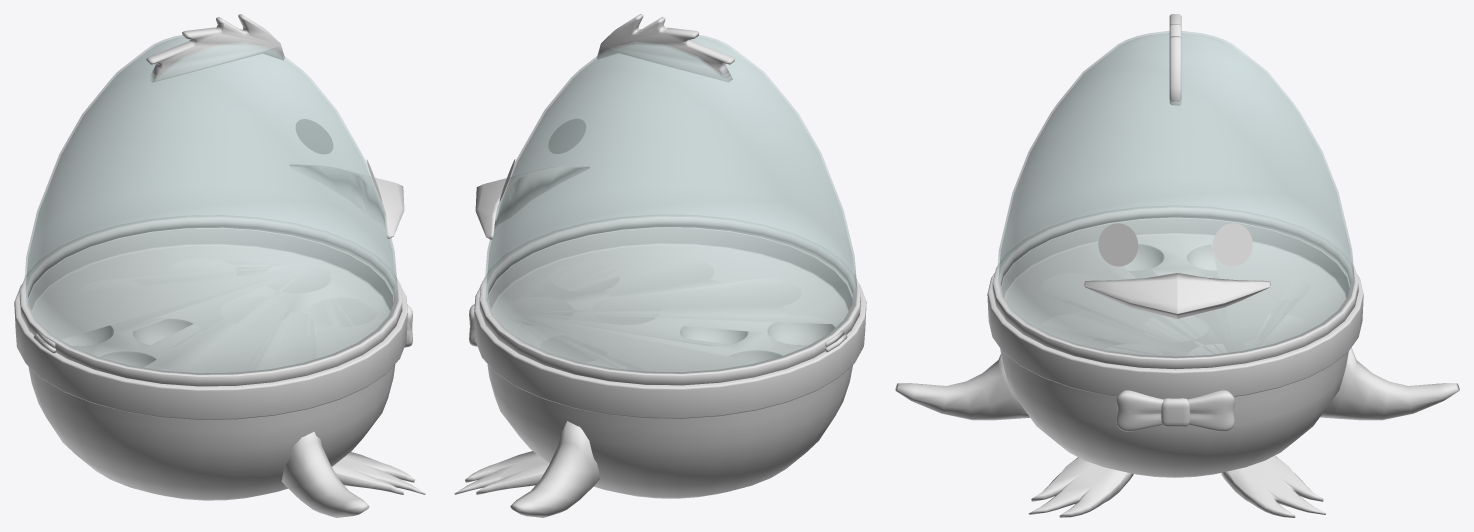
The model's file is incubator.fbx.
The picture shows the model from 3 angles, left to right: view 1: azimuth 30°, elevation 25°; view 2: azimuth 150°, elevation 25°; view 3: azimuth 270°, elevation 25°; orthographic projection. The views are drawn at different scales.
Visible parts, largest first — view 1: 球.002, 球.001, 球.004; view 2: 球.002, 球.001, 球.004; view 3: 球.002, 球.001, 球.004.
Part boxes in pixels (bbox=[...]): 球.002: bbox=[23, 35, 398, 374]; 球.001: bbox=[14, 227, 425, 517]; 球.004: bbox=[19, 14, 404, 386]; 球.002: bbox=[483, 35, 857, 373]; 球.001: bbox=[454, 227, 866, 517]; 球.004: bbox=[475, 14, 860, 385]; 球.002: bbox=[996, 30, 1354, 357]; 球.001: bbox=[895, 217, 1459, 517]; 球.004: bbox=[992, 14, 1358, 369].
Bounding box in the file's own units: 223 × 264 × 313.
